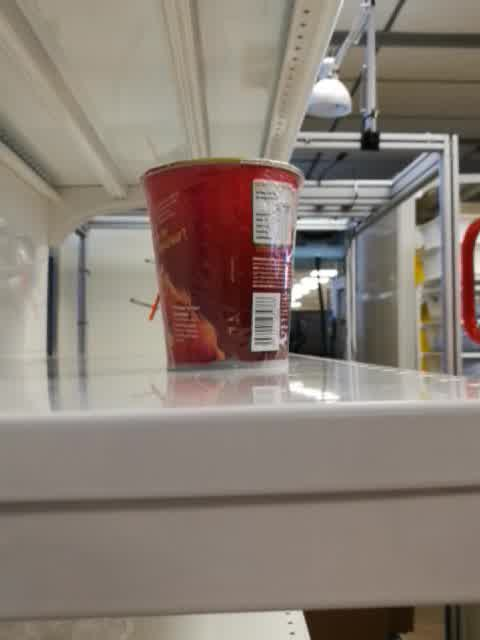maggi: (141, 157, 304, 375)
